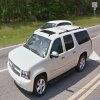Car: (8, 18, 95, 97)
